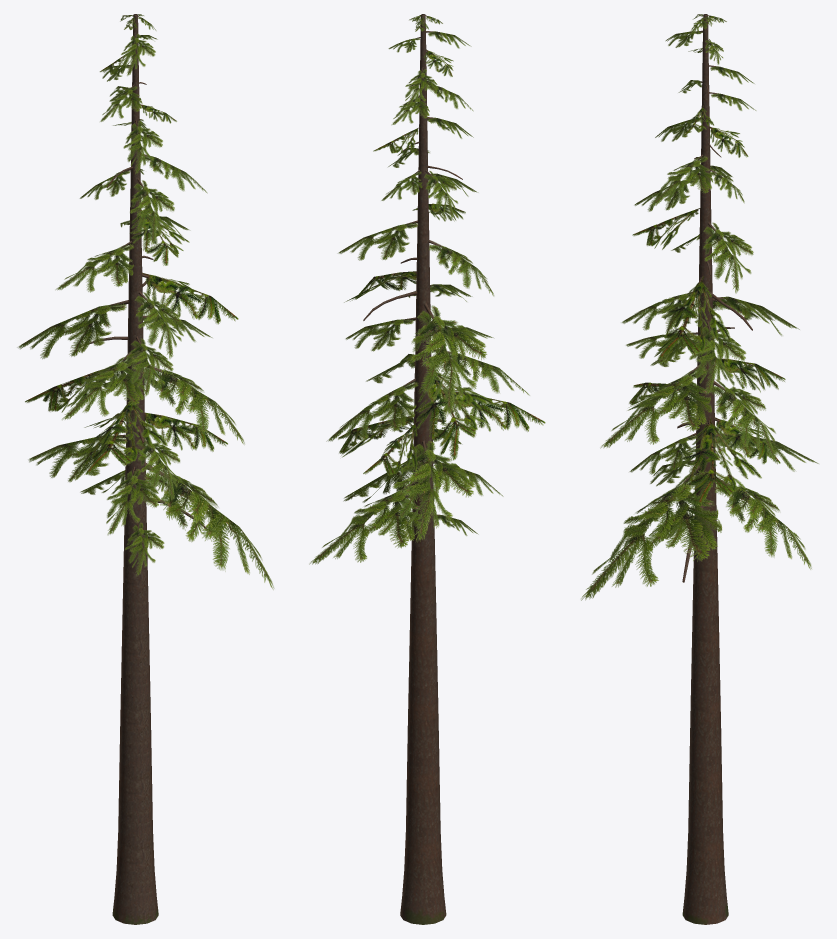
Rendered from pine_try_4.glb.
3 renders of one model, left to right at view 1: azimuth 30°, elevation 25°; view 2: azimuth 150°, elevation 25°; view 3: azimuth 270°, elevation 25°, orthographic.
Visible parts, largest first — view 1: low_branches_w_stubb, low_tree_trunk; view 2: low_branches_w_stubb, low_tree_trunk; view 3: low_branches_w_stubb, low_tree_trunk, low_branches.
Part boxes in pixels (x1,y1,x2,y2): low_branches_w_stubb: [17, 14, 274, 589]; low_tree_trunk: [112, 14, 158, 924]; low_branches_w_stubb: [309, 15, 545, 564]; low_tree_trunk: [400, 14, 446, 924]; low_branches_w_stubb: [581, 14, 818, 600]; low_tree_trunk: [682, 14, 728, 924]; low_branches: [677, 85, 752, 582].
Bounding box in the file's own units: 217 × 1017 × 251.
Materials: 2 (2 with a texture image).
